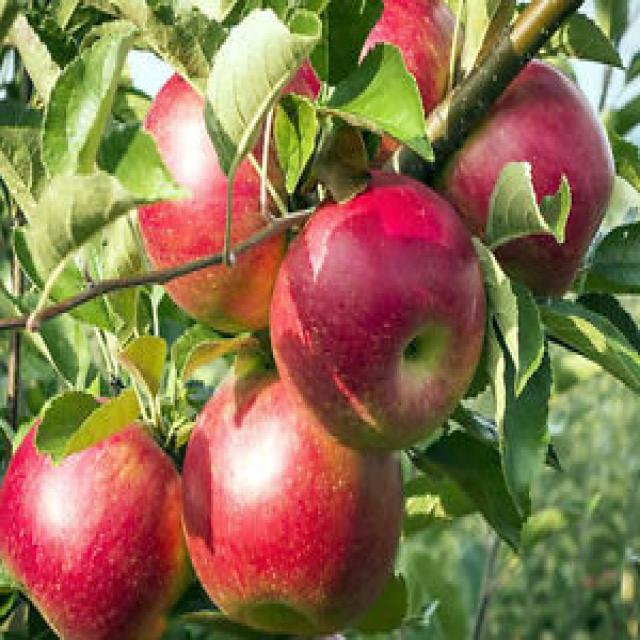Apple: (181, 338, 407, 629), (267, 187, 486, 447), (2, 402, 190, 629), (435, 70, 612, 271)
